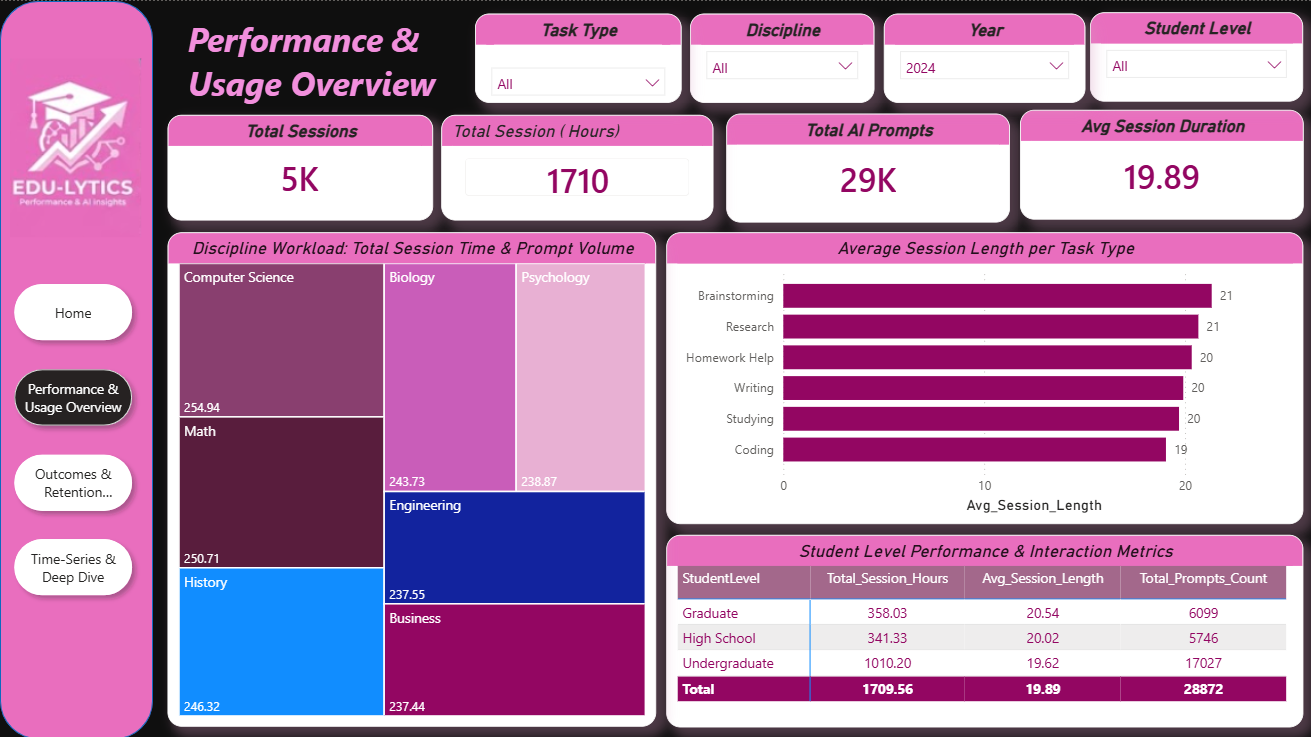

This screenshot's page, from the dashboard's own definition file:
{"tool":"powerbi","page":{"name":"Performance & Usage Overview","canvas":[1280,720],"ordinal":1},"visuals":[{"type":"cardVisual","title":"Total Sessions","fields":{"Data":["_all_measures.Total_Sessions"]},"box":[162.8,110.8,258.9,102.9],"z":0},{"type":"cardVisual","title":"Total AI Prompts","fields":{"Data":["_all_measures.Total_Prompts_Count"]},"box":[708.9,109.7,277,106.3],"z":1000},{"type":"cardVisual","title":"Avg Session Duration","fields":{"Data":["_all_measures.Avg_Session_Length"]},"box":[995,106.3,277,107.4],"z":2000},{"type":"cardVisual","title":"Total Session ( Hours)","fields":{"Data":["_all_measures.Total_Session_Length"]},"box":[430.8,110.8,265.7,102.9],"z":3000},{"type":"clusteredBarChart","title":"Average Session Length per Task Type","fields":{"Category":["Dim_Task.TaskType"],"Y":["_all_measures.Avg_Session_Length"]},"box":[650.1,226.1,621.9,284.9],"z":4000},{"type":"pivotTable","title":"Student Level Performance & Interaction Metrics","fields":{"Rows":["Dim_Student.StudentLevel"],"Values":["_all_measures.Total_Session_Length","_all_measures.Avg_Session_Length","_all_measures.Total_Prompts_Count"]},"box":[650.1,521.2,621.9,187.7],"z":5000},{"type":"treemap","title":"Discipline Workload: Total Session Time & Prompt Volume","fields":{"Group":["Dim_Student.Discipline"],"Values":["_all_measures.Total_Session_Length"]},"box":[162.8,226.1,477.1,482.8],"z":6000},{"type":"slicer","title":"Student Level","fields":{"Values":["Dim_Student.StudentLevel"]},"box":[1063.9,11.3,208,87.1],"z":7000},{"type":"slicer","title":"Discipline","fields":{"Values":["Dim_Student.Discipline"]},"box":[672.7,12.4,179.8,87.1],"z":8000},{"type":"slicer","title":"Year","fields":{"Values":["Dim_Date.Year"]},"box":[862.7,12.4,196.7,87.1],"z":9000},{"type":"slicer","title":"Task Type","fields":{"Values":["Dim_Task.TaskType"]},"box":[463.6,12.4,201.3,87.1],"z":10000},{"type":"shape","box":[0,0,149.2,720.2],"z":11000},{"type":"textbox","box":[177.5,11.3,320,136.8],"z":12000},{"type":"image","box":[10.2,0,127.8,287.2],"z":13000},{"type":"pageNavigator","box":[4.5,266.8,133.4,323.4],"z":14000}]}

Visuals, with their boxes in screenshot pixels (x1, y1, x2, y2), scaled from the page's 1280x720 canvas onto the 1311x737 screenshot:
"Total Sessions" cardVisual: left=167, top=113, right=432, bottom=219
"Total AI Prompts" cardVisual: left=726, top=112, right=1010, bottom=221
"Avg Session Duration" cardVisual: left=1019, top=109, right=1303, bottom=219
"Total Session ( Hours)" cardVisual: left=441, top=113, right=713, bottom=219
"Average Session Length per Task Type" clusteredBarChart: left=666, top=231, right=1303, bottom=523
"Student Level Performance & Interaction Metrics" pivotTable: left=666, top=534, right=1303, bottom=726
"Discipline Workload: Total Session Time & Prompt Volume" treemap: left=167, top=231, right=655, bottom=726
"Student Level" slicer: left=1090, top=12, right=1303, bottom=101
"Discipline" slicer: left=689, top=13, right=873, bottom=102
"Year" slicer: left=884, top=13, right=1085, bottom=102
"Task Type" slicer: left=475, top=13, right=681, bottom=102
shape: left=0, top=0, right=153, bottom=736
textbox: left=182, top=12, right=510, bottom=152
image: left=10, top=0, right=141, bottom=294
pageNavigator: left=5, top=273, right=141, bottom=604
